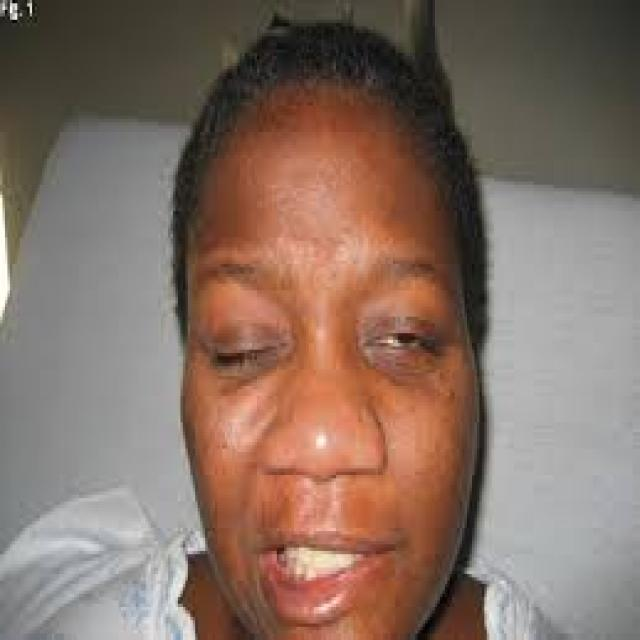stroke_face: (178, 13, 484, 640)
